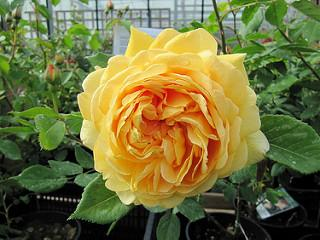Rose: (77, 22, 274, 214)
